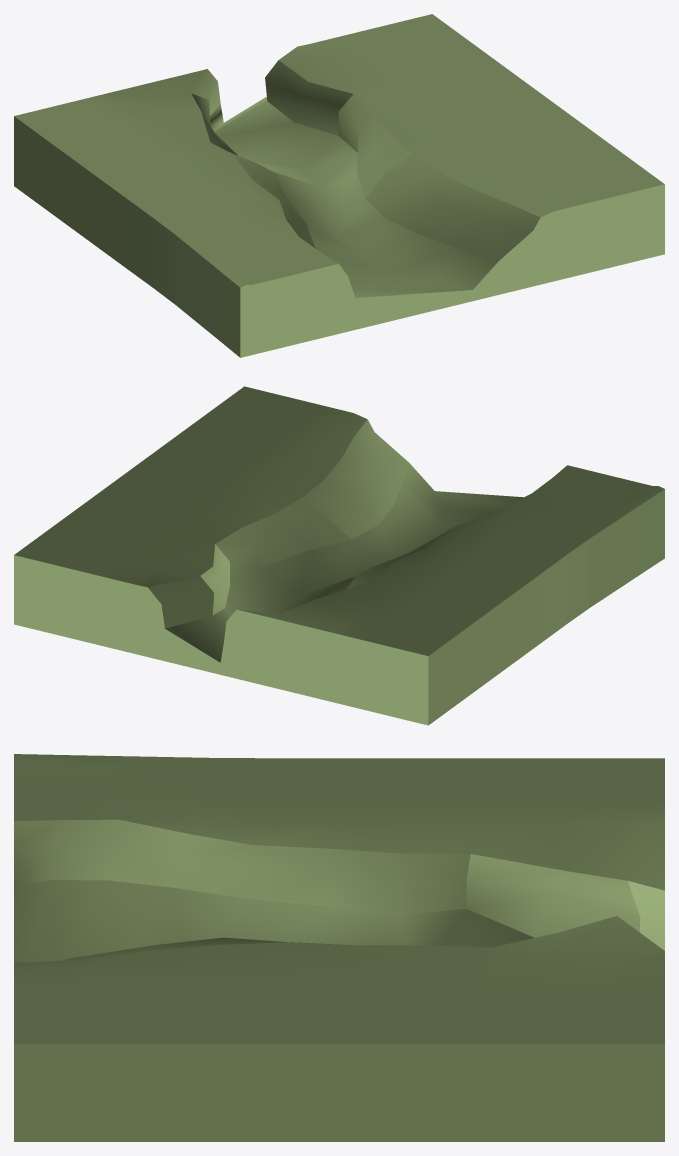
Rendered from gree grass with space.fbx.
The picture shows the model from 3 angles, top to bottom: view 1: azimuth 30°, elevation 25°; view 2: azimuth 150°, elevation 25°; view 3: azimuth 270°, elevation 25°; orthographic projection. The views are drawn at different scales.
Parts seen in each view (by area): view 1: pPlane1; view 2: pPlane1; view 3: pPlane1.
Part boxes in pixels (<box>): pPlane1: <box>14,14,664,357</box>; pPlane1: <box>14,386,664,725</box>; pPlane1: <box>14,754,664,1141</box>.
Bounding box in the file's own units: 739 × 130 × 701.
